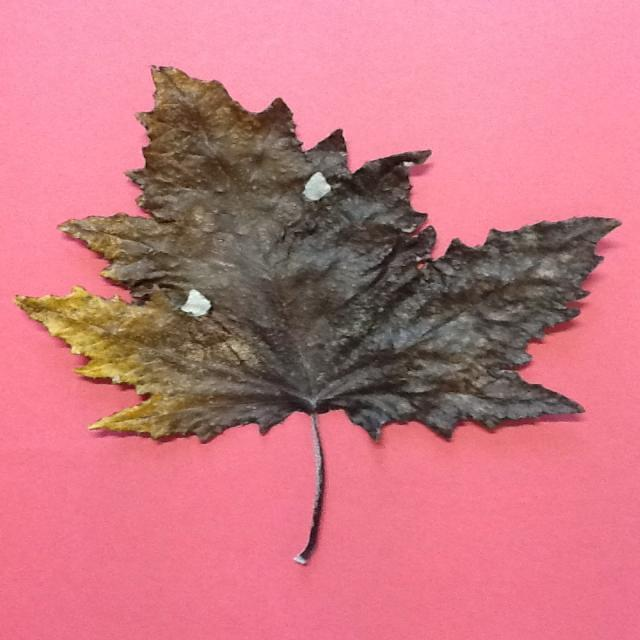foliage: (16, 62, 626, 566)
